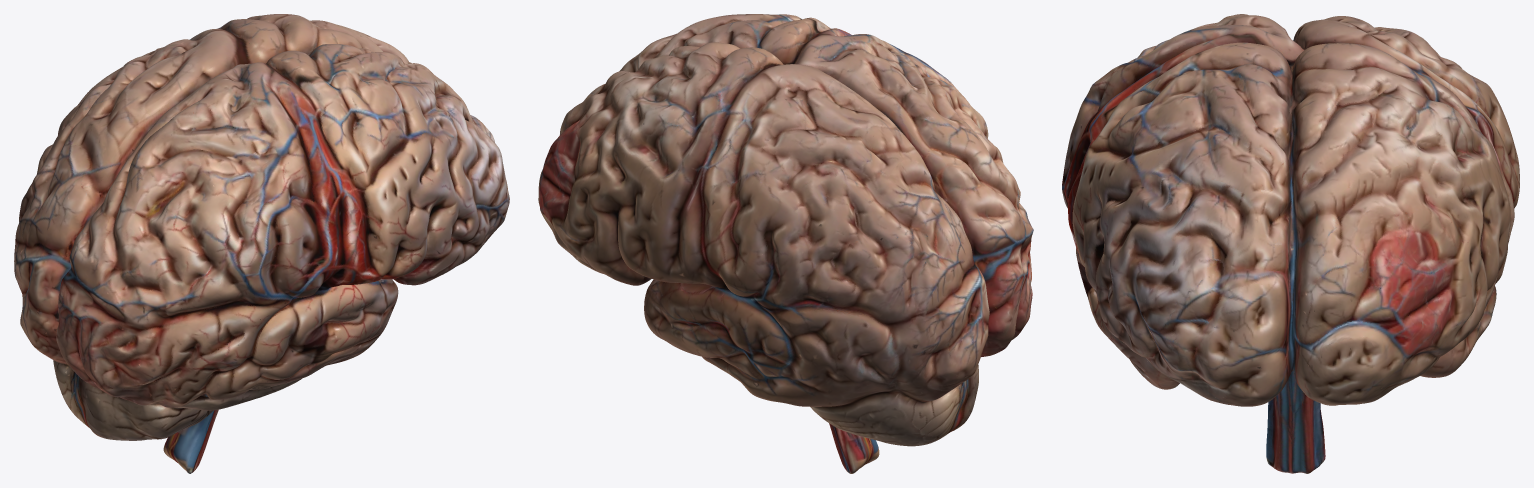
File: brain.glb
3 views of the same model, side by side, from view 1: azimuth 30°, elevation 25°; view 2: azimuth 150°, elevation 25°; view 3: azimuth 270°, elevation 25° (orthographic). The views are drawn at different scales.
Bounding box in the file's own units: 2 × 1.8 × 1.56.
Materials: 1 (1 with a texture image).
